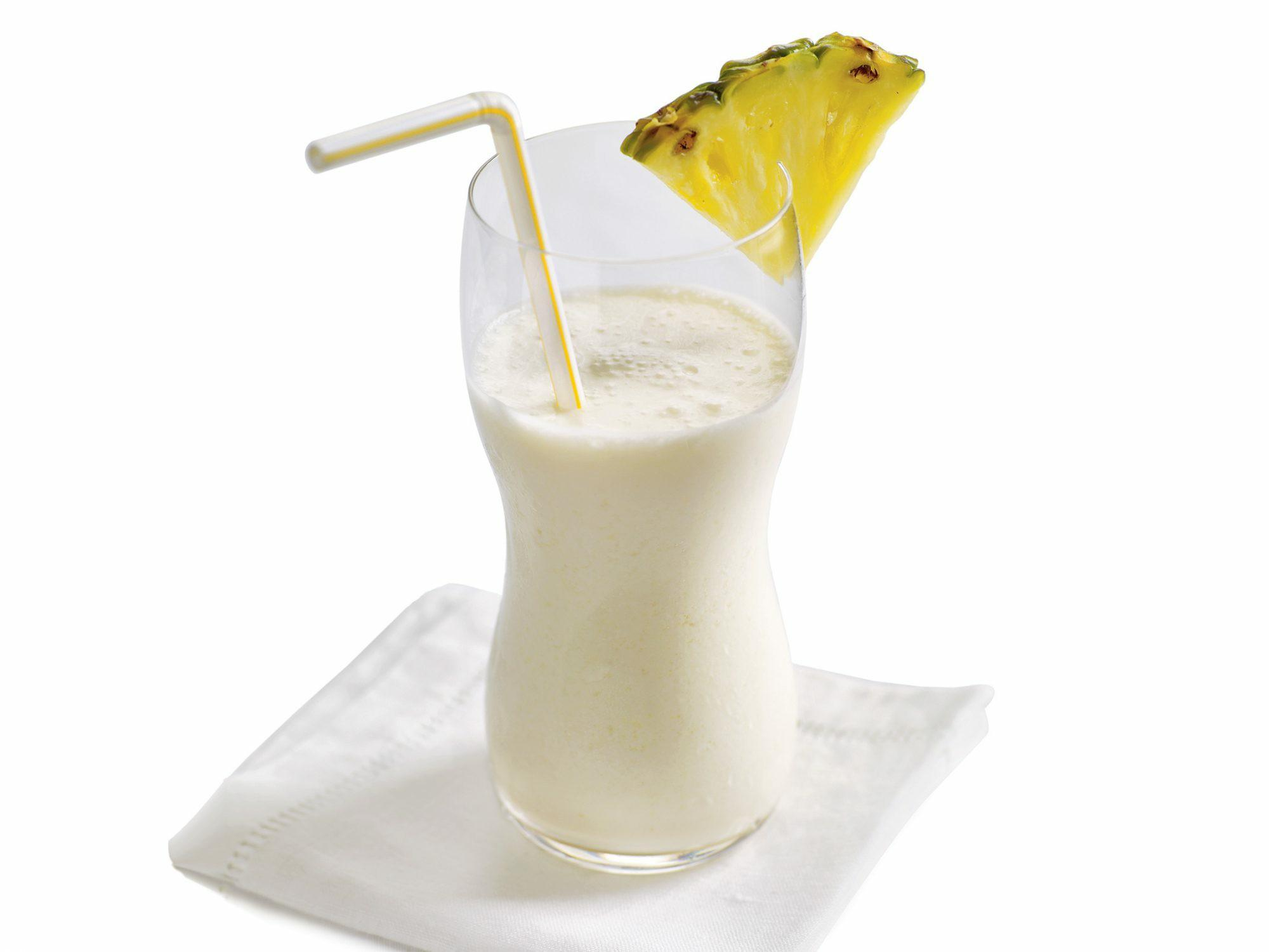Lassi: (466, 284, 802, 854)
